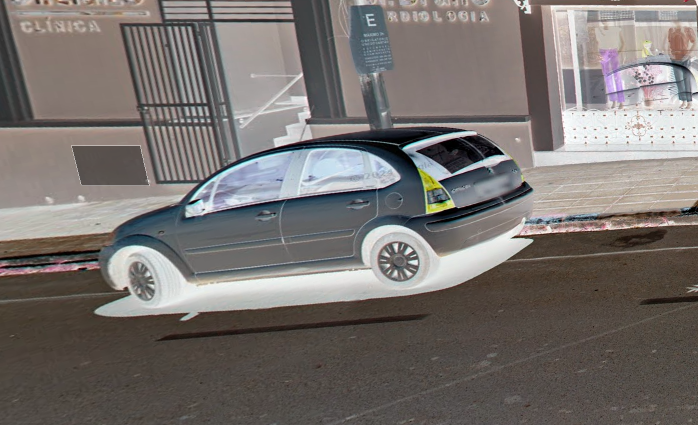car: (96, 102, 538, 337)
